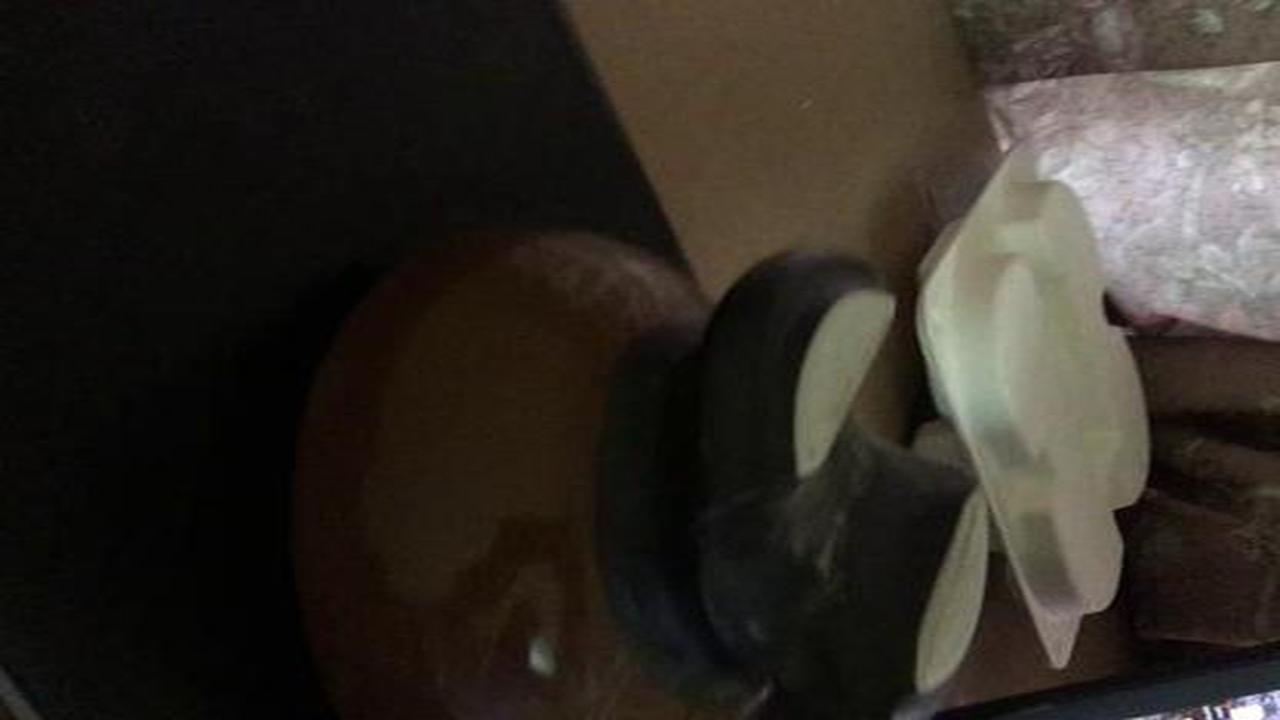insulator_pin: (252, 214, 1004, 717)
